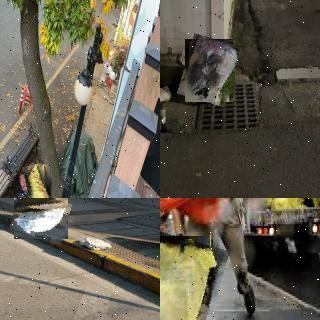Garbage: (160, 231, 219, 320), (181, 36, 239, 105), (11, 198, 70, 242), (25, 163, 53, 198), (10, 173, 34, 198)
